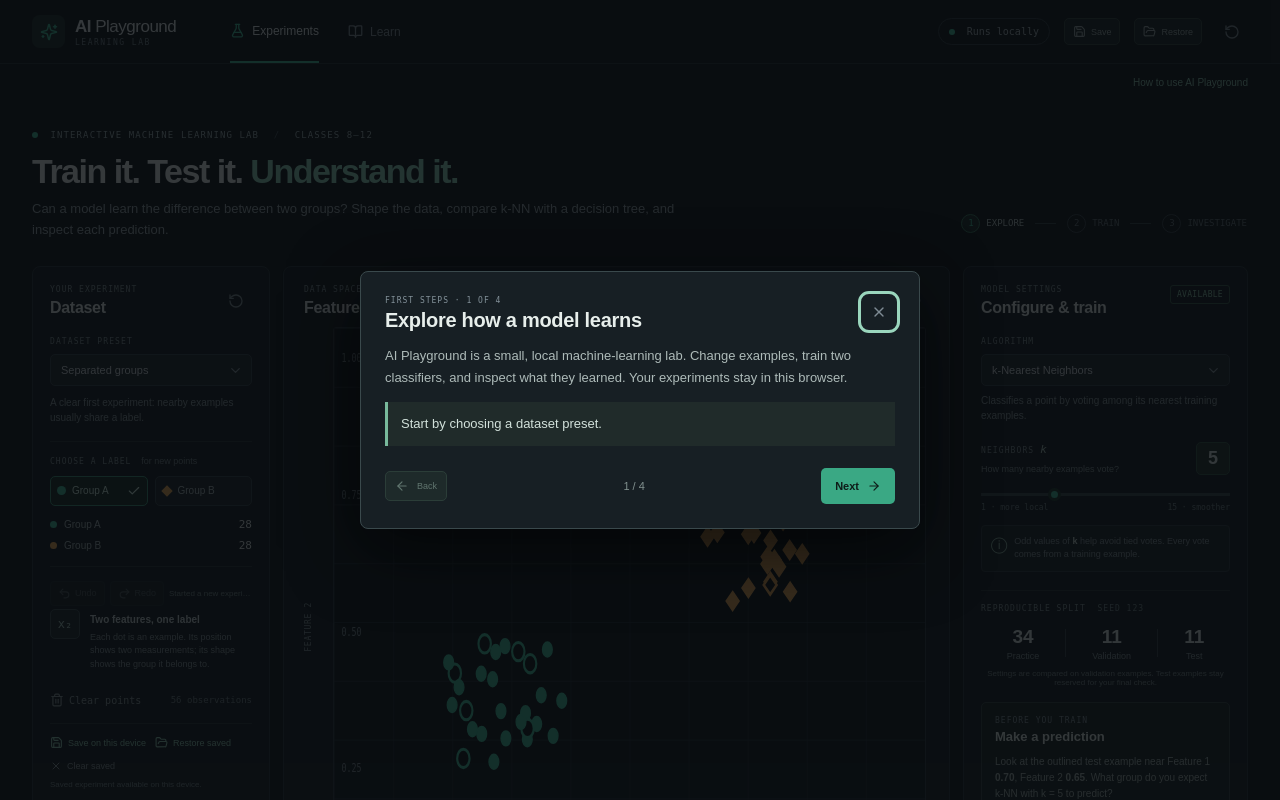
Scenario: AI Playground workspace › shows first-use onboarding, dismisses it, and lets the learner reopen it
Check: the dialog "Explore how a model learns" is shown, box x1=360 y1=271 x2=920 y2=529
Click the button "Next". click: {"x": 858, "y": 486}
box: x1=821 y1=468 x2=895 y2=504
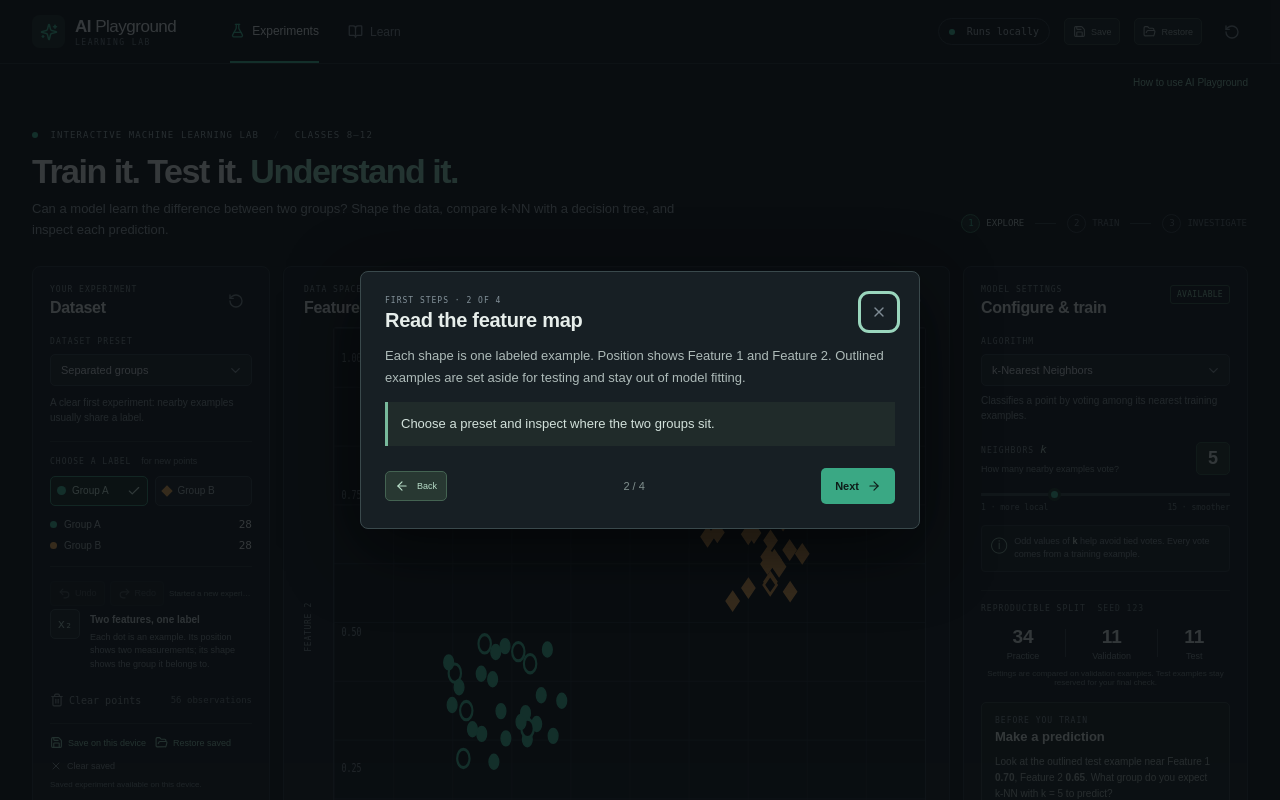
Check: the dialog "Read the feature map" is shown, box x1=360 y1=271 x2=920 y2=529
Click the button named "Close introduction". click: {"x": 879, "y": 312}
box: x1=863 y1=296 x2=895 y2=328
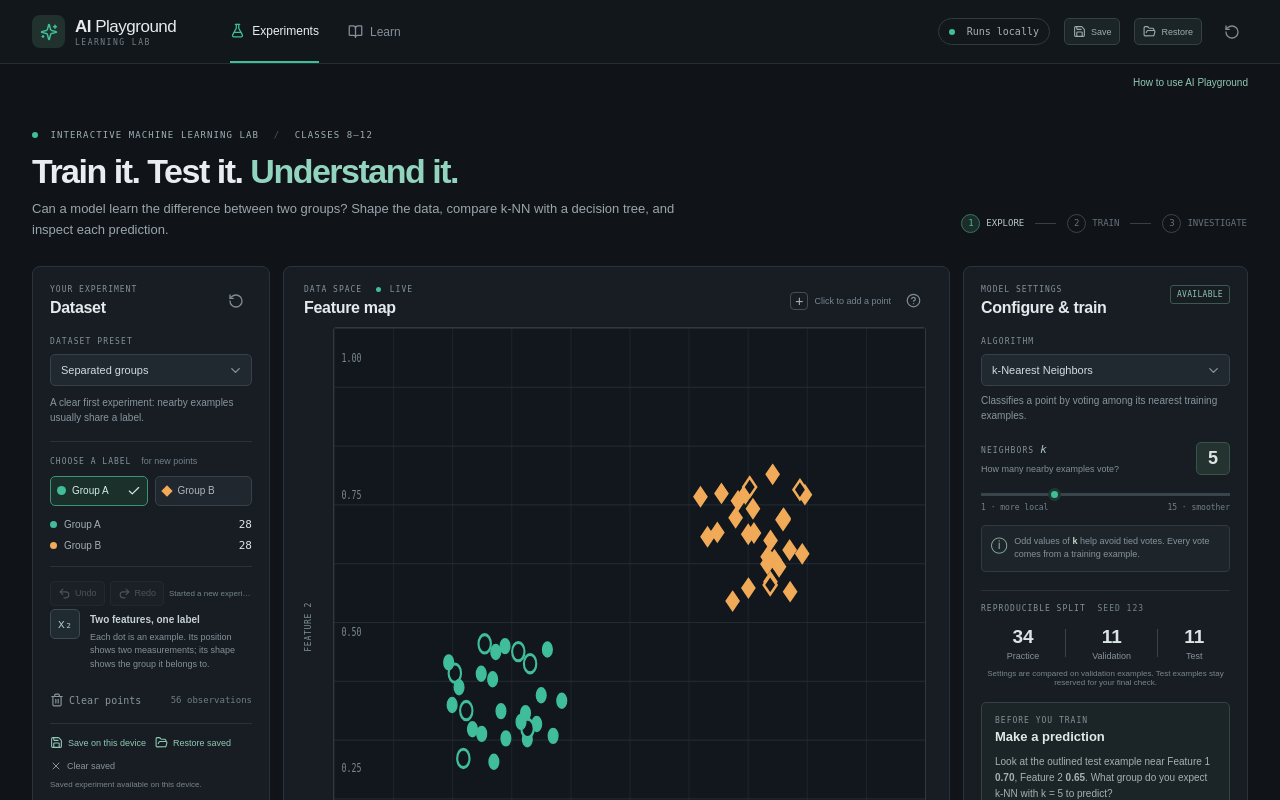
Click the button "How to use AI Playground". click: {"x": 1190, "y": 82}
box: x1=1133 y1=72 x2=1248 y2=93
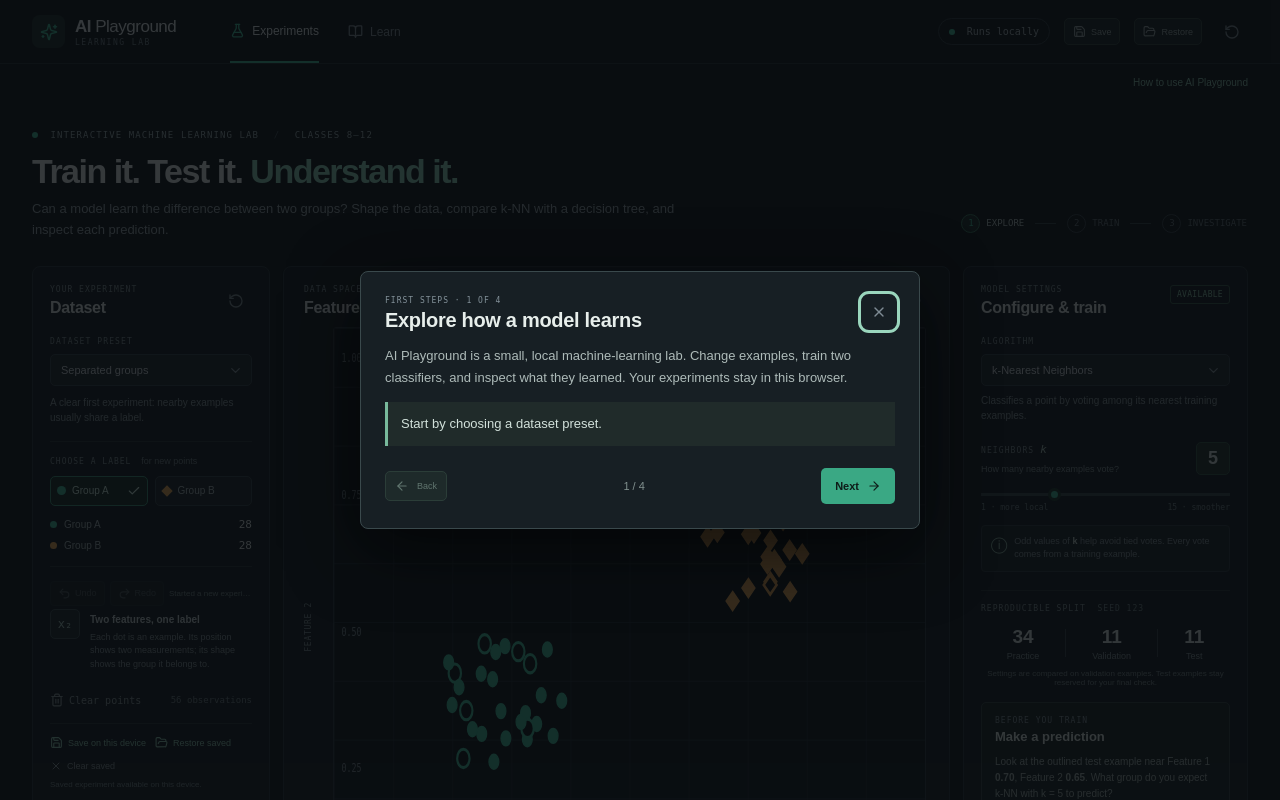
Check: the dialog "Explore how a model learns" is shown, box x1=360 y1=271 x2=920 y2=529
